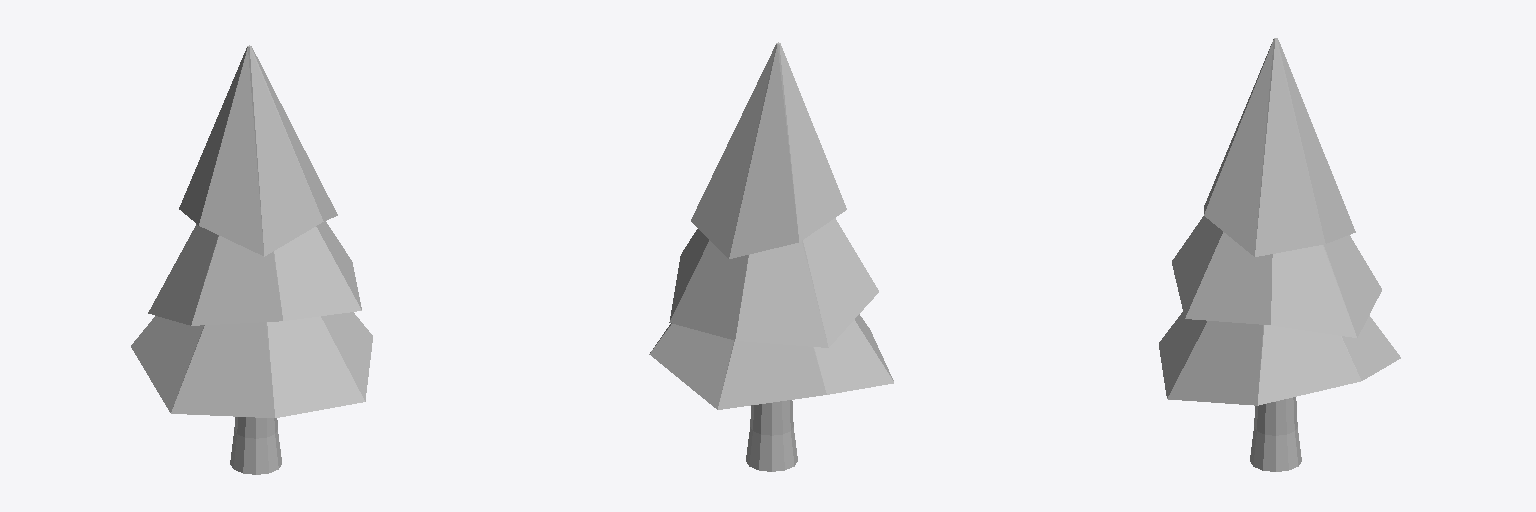
Rendered from pinetree.obj.
The picture shows the model from 3 angles: view 1: azimuth 30°, elevation 25°; view 2: azimuth 150°, elevation 25°; view 3: azimuth 270°, elevation 25°; orthographic projection.
Parts seen in each view (by area): view 1: Cylinder.003, Cylinder.001, Cylinder.002, Cylinder; view 2: Cylinder.002, Cylinder.001, Cylinder.003, Cylinder; view 3: Cylinder.001, Cylinder.002, Cylinder.003, Cylinder.
Boxes of the visible parts, x1=… form: Cylinder.003: x1=131, y1=312, x2=372, y2=417; Cylinder.001: x1=179, y1=45, x2=337, y2=256; Cylinder.002: x1=148, y1=221, x2=361, y2=325; Cylinder: x1=230, y1=417, x2=281, y2=474; Cylinder.002: x1=669, y1=218, x2=878, y2=347; Cylinder.001: x1=691, y1=42, x2=846, y2=258; Cylinder.003: x1=649, y1=314, x2=893, y2=409; Cylinder: x1=746, y1=400, x2=797, y2=471; Cylinder.001: x1=1204, y1=38, x2=1355, y2=256; Cylinder.002: x1=1172, y1=216, x2=1381, y2=337; Cylinder.003: x1=1159, y1=312, x2=1400, y2=405; Cylinder: x1=1250, y1=397, x2=1301, y2=471.
Bounding box in the file's own units: 3.06 × 5.88 × 3.04.